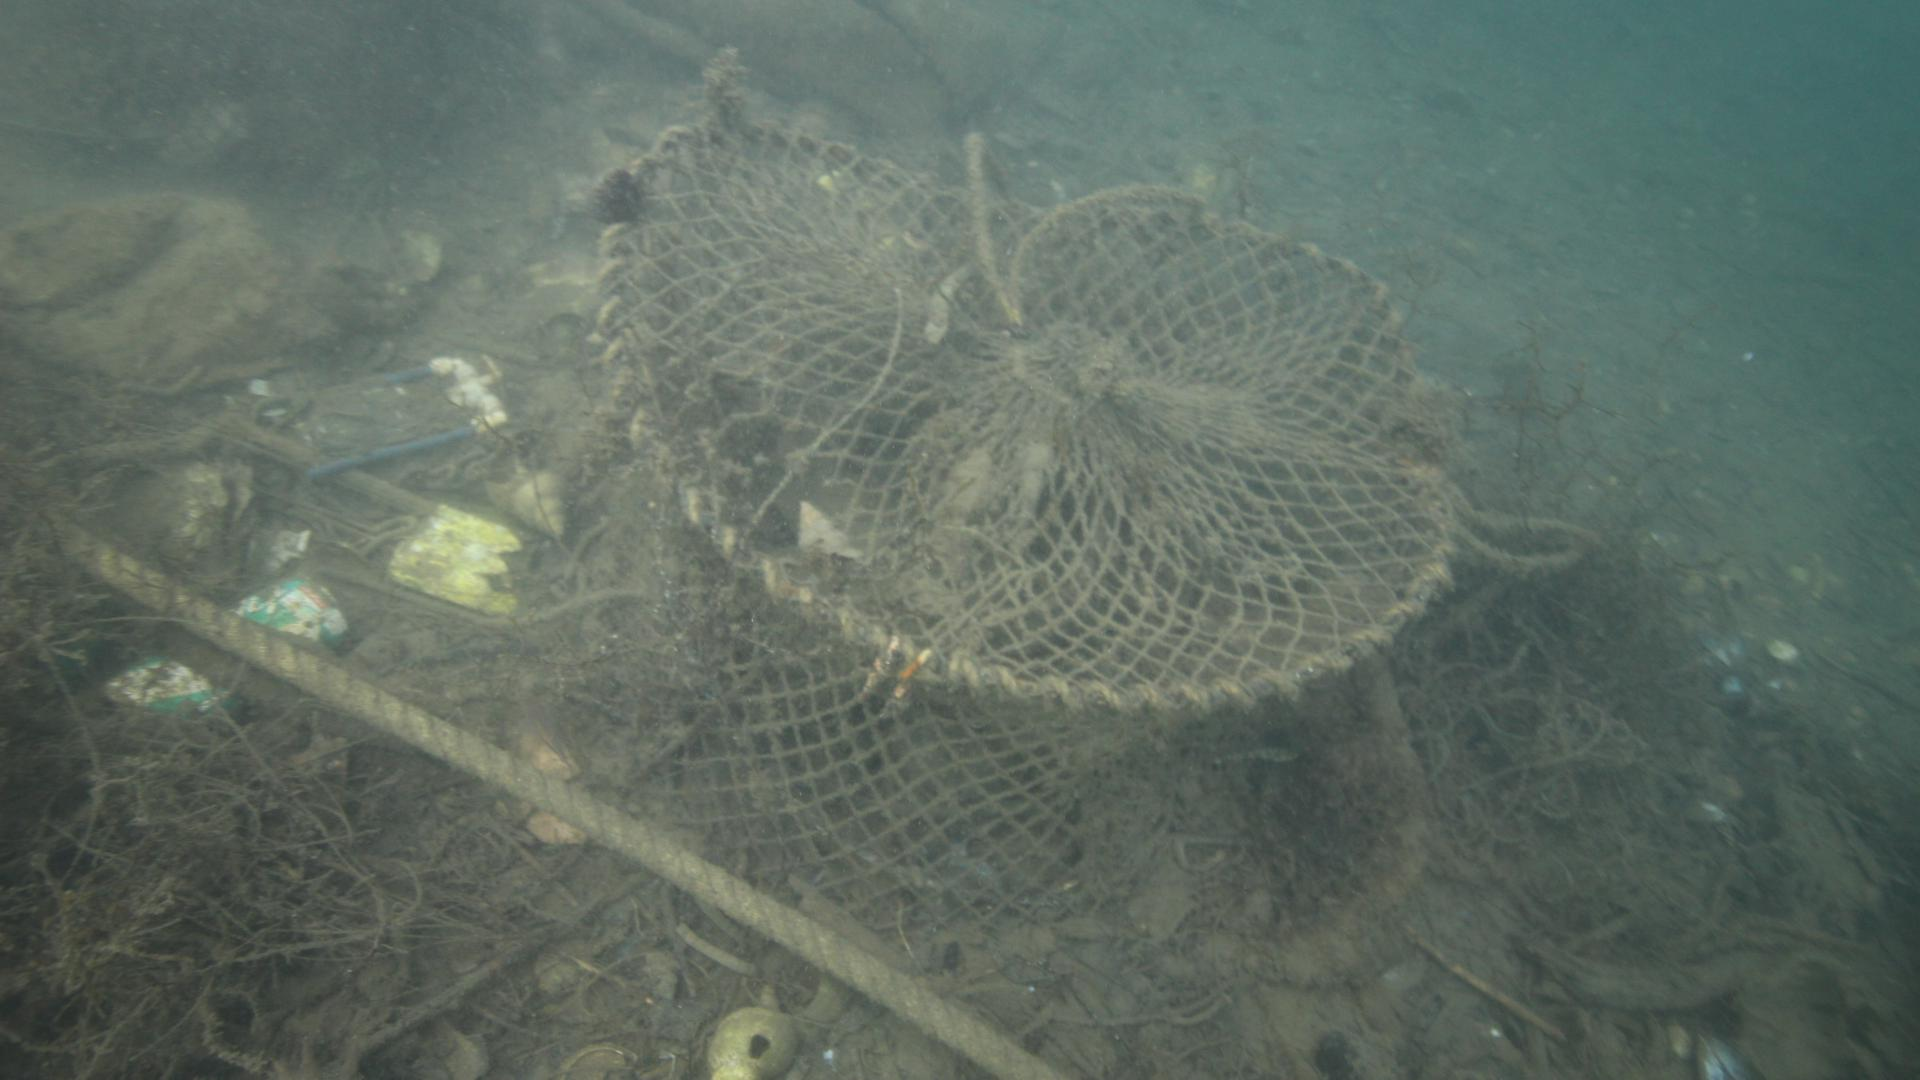circular fish trap: (593, 113, 1466, 940)
rope: (37, 512, 1077, 1080)
